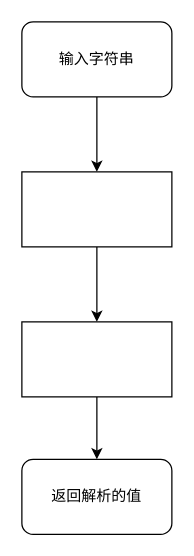
Some shapes in this 194 by 556 pixel diagram are drawn without their labels. Each missing label, with the box of its shape:
解析 token 数组构建 解析后的值: (21, 321, 172, 397)
解析字符串生成 token 数组: (21, 171, 172, 247)
